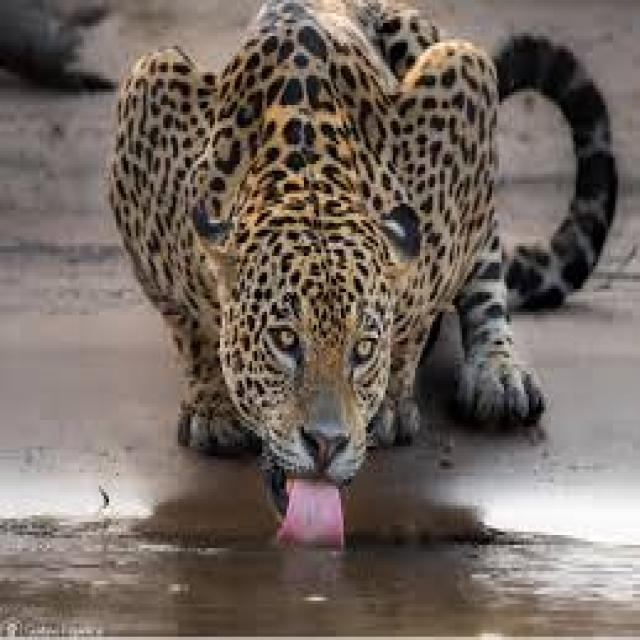Jaguar: (104, 7, 595, 492)
